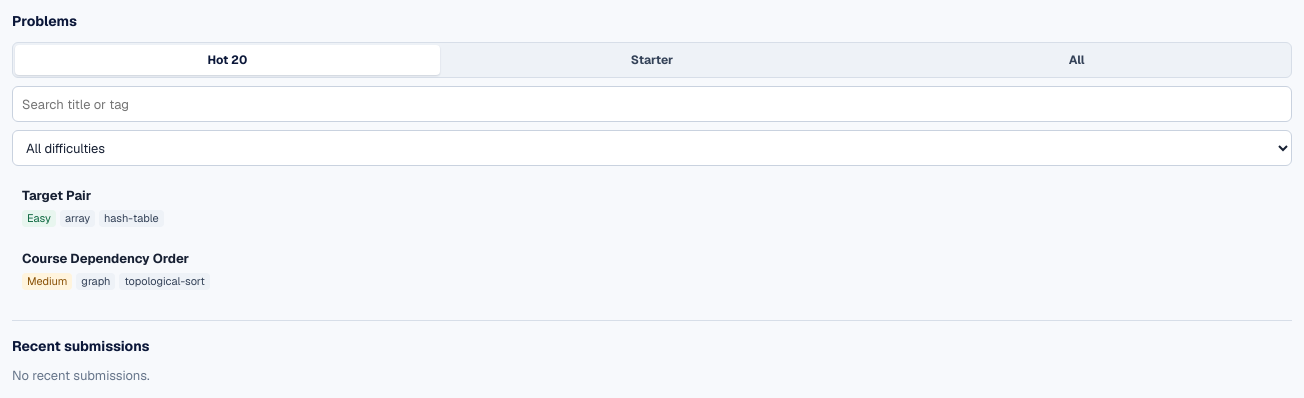
Test case: ProblemRail › renders a stable empty state when no problem matches
Step 1. Type "missing" into the search field named "Search problems" → {"x": 652, "y": 104}, box x1=12 y1=86 x2=1292 y2=122
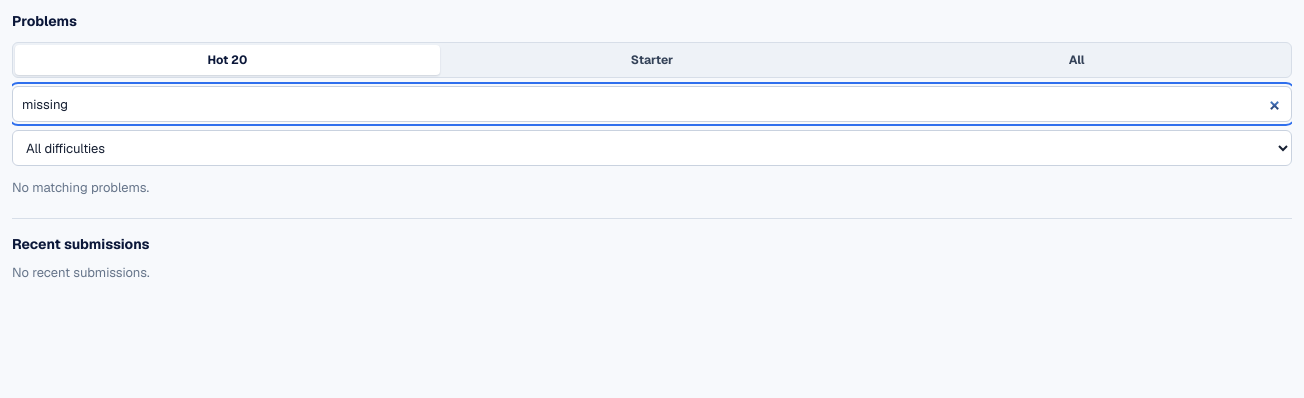
Expected: the navigation bar "Problems" shows "No matching problems.", x1=12 y1=179 x2=149 y2=196
